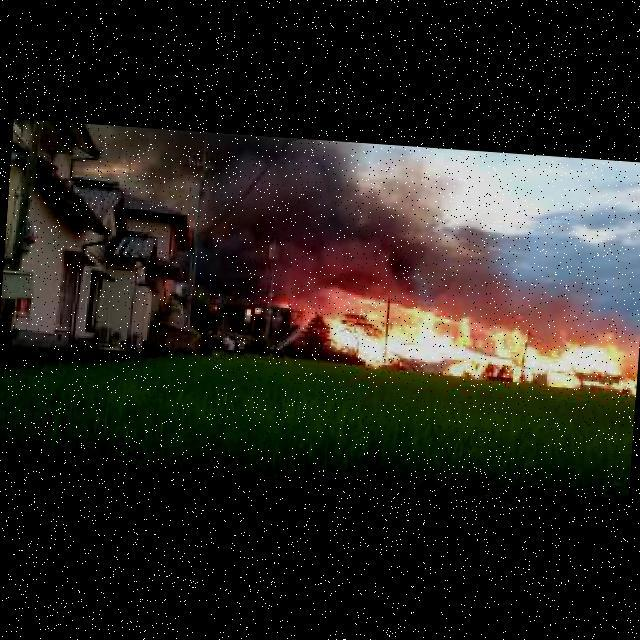Fire: (211, 303, 217, 309)
Smoke: (211, 134, 517, 319)
